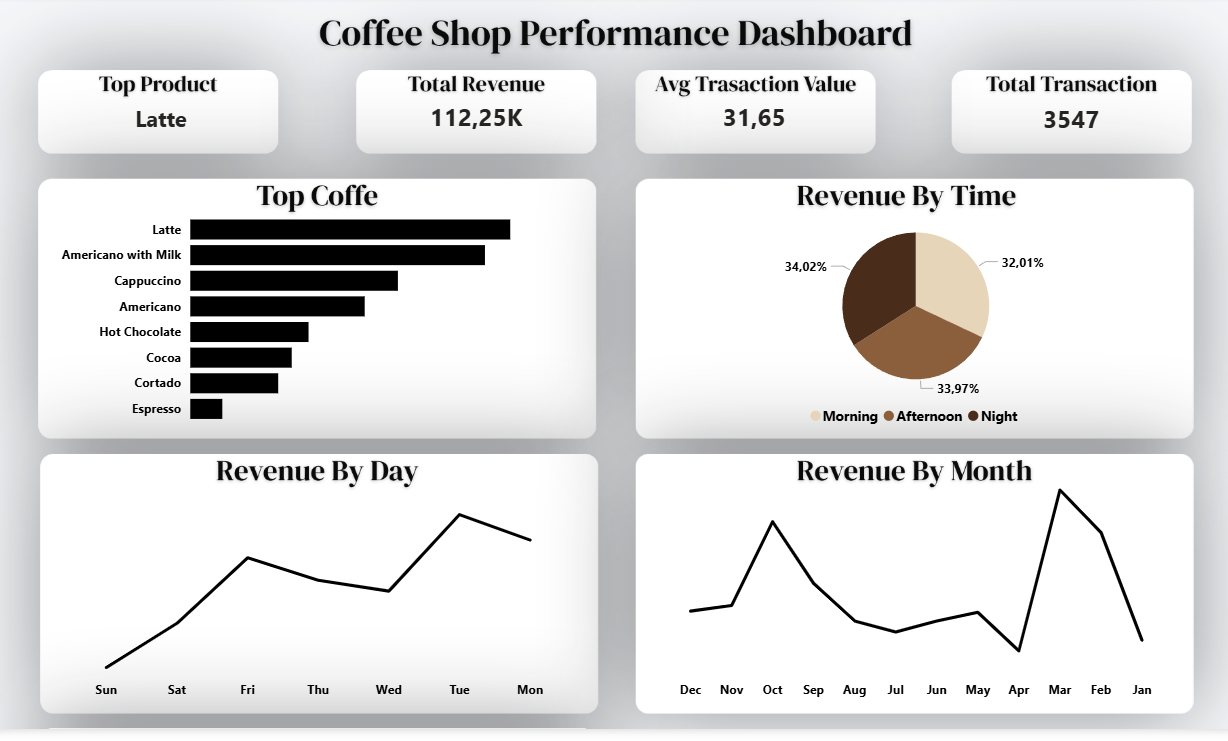

Layout of this report page (visuals, bound fields, positions):
{"tool":"powerbi","page":{"name":"Page 1","canvas":[1280,720],"ordinal":0},"visuals":[{"type":"card","title":"Total Revenue","fields":{"Values":["Sum(Sales.Money_Clean)"]},"box":[434.9,84.8,136.1,69],"z":0},{"type":"card","title":"Total Transactions","fields":{"Values":["CountNonNull(Sales.coffee_name)"]},"box":[1011.8,84.8,151.9,73],"z":1000},{"type":"clusteredBarChart","title":"Top Coffee","fields":{"Y":["Sum(Sales.Money_Clean)"],"Category":["Sales.coffee_name"]},"box":[88.8,195.3,489.1,234.7],"z":2000},{"type":"lineChart","title":"Revenue By Weekday","fields":{"Category":["Sales.Weekday"],"Y":["Sum(Sales.Money_Clean)"]},"box":[106.5,469.4,482.2,230.8],"z":3000},{"type":"card","title":"Avg Transaction Value","fields":{"Values":["Sales.Avg Transaction"]},"box":[682.4,80.9,187.4,75.9],"z":4000},{"type":"pieChart","title":"Revenue by Time Of Day","fields":{"Category":["Sales.Time_of_Day"],"Y":["Sum(Sales.Money_Clean)"]},"box":[691.3,206.1,487.1,223.9],"z":5000},{"type":"lineChart","title":"Revenue by Month","fields":{"Category":["Sales.Month_name"],"Y":["Sum(Sales.Money_Clean)"]},"box":[692.3,469.4,486.2,230.8],"z":6000},{"type":"card","fields":{"Values":["Sales.Top Product"]},"box":[88.8,76.9,208.1,88.8],"z":6001}]}

Visuals, with their boxes on the page's 1280x720 design canvas (x1, y1, x2, y2). These are canvas units, not pixel positions in the 1228x741 screenshot, which may show the page scaled, cropped or inside an application window:
"Total Revenue" card: 435, 85, 571, 154
"Total Transactions" card: 1012, 85, 1164, 158
"Top Coffee" clusteredBarChart: 89, 195, 578, 430
"Revenue By Weekday" lineChart: 106, 469, 589, 700
"Avg Transaction Value" card: 682, 81, 870, 157
"Revenue by Time Of Day" pieChart: 691, 206, 1178, 430
"Revenue by Month" lineChart: 692, 469, 1178, 700
card - Sales.Top Product: 89, 77, 297, 166
